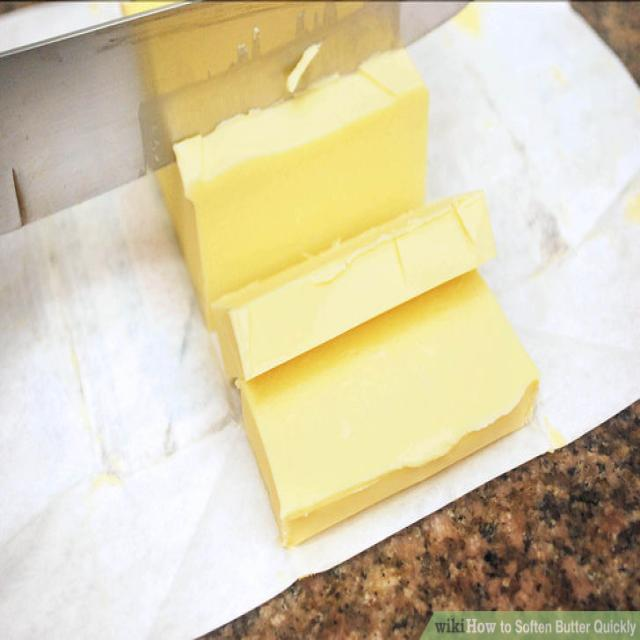Butter: (234, 268, 538, 519), (174, 51, 431, 304), (212, 192, 490, 377)
